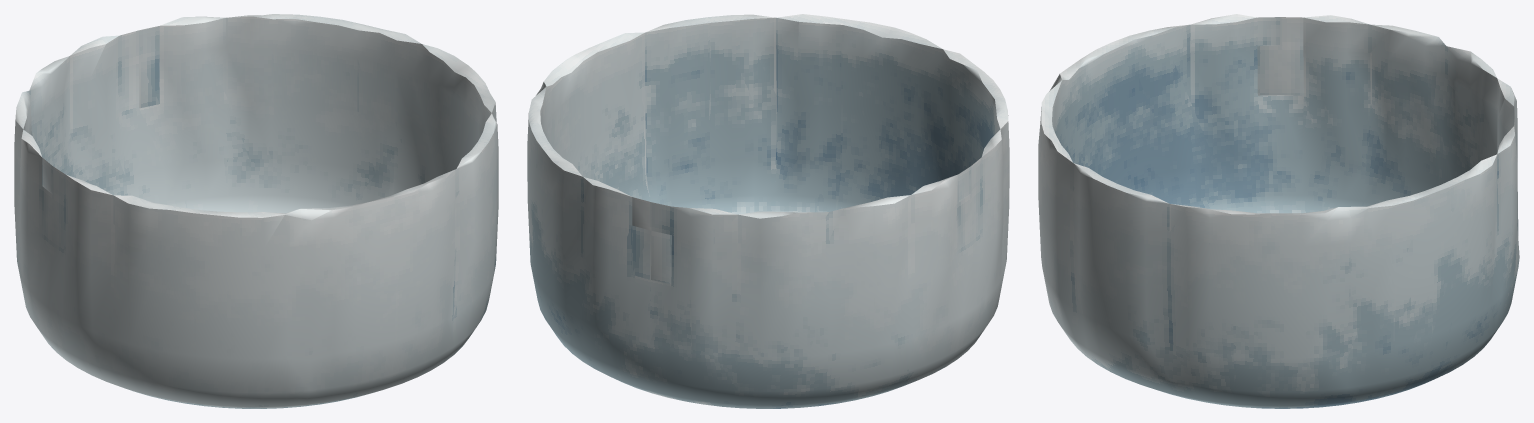
File: sink_round.glb
The picture shows the model from 3 angles, left to right: view 1: azimuth 30°, elevation 25°; view 2: azimuth 150°, elevation 25°; view 3: azimuth 270°, elevation 25°; orthographic projection.
Visible parts, largest first — view 1: mesh; view 2: mesh; view 3: mesh.
Boxes of the visible parts, x1,y1,x2,y2 form: mesh: [14, 14, 498, 408]; mesh: [527, 14, 1009, 408]; mesh: [1038, 14, 1519, 408].
Bounding box in the file's own units: 0.5551 × 0.3 × 0.5551.
Materials: 1 (1 with a texture image).
